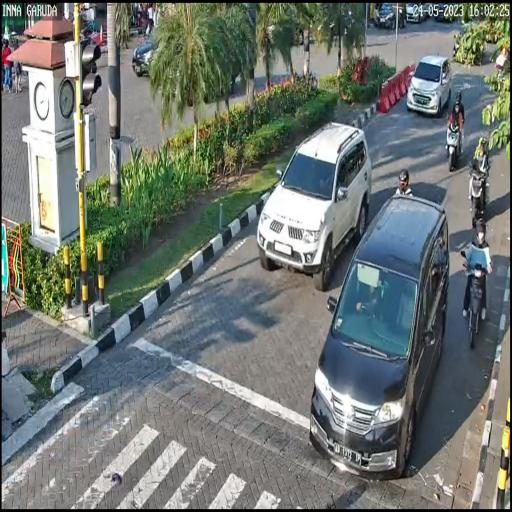mobil: (310, 187, 450, 471), (255, 117, 370, 290), (407, 51, 452, 126)
motor: (459, 250, 490, 352), (464, 158, 494, 226), (445, 115, 467, 181)
